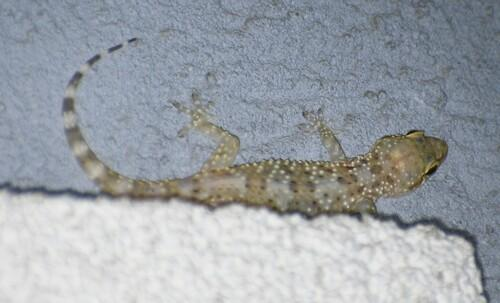lizard: (55, 34, 452, 215)
